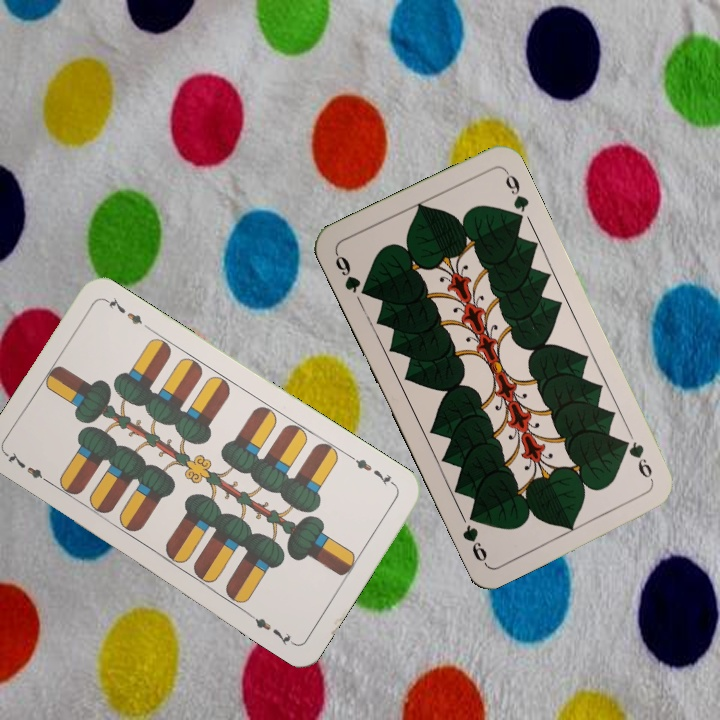E7: (3, 448, 55, 488), (346, 451, 399, 489)
G9: (331, 248, 372, 299), (619, 435, 656, 485)
